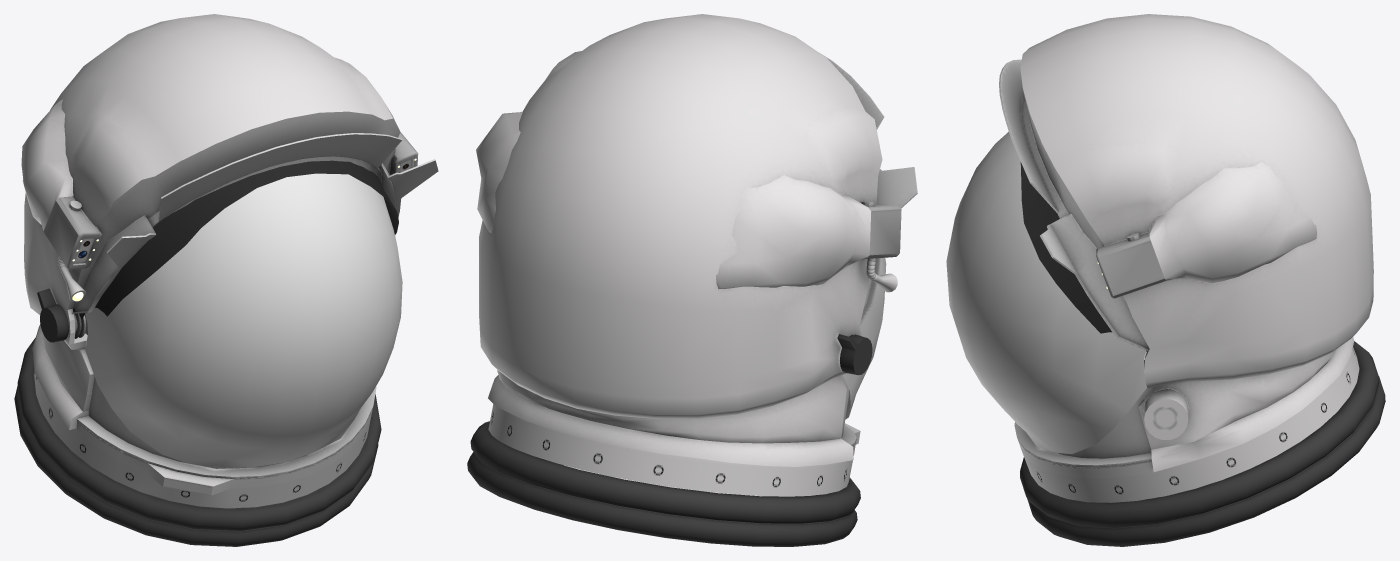
File: casco de astronauta.fbx
3 renders of one model, left to right at view 1: azimuth 30°, elevation 25°; view 2: azimuth 150°, elevation 25°; view 3: azimuth 270°, elevation 25°, orthographic. The views are drawn at different scales.
Visible parts, largest first — view 1: Helmet-Body_helmet_glass_0; view 2: Helmet-Body_helmet_glass_0; view 3: Helmet-Body_helmet_glass_0.
Part boxes in pixels (box(x1,y1,x2,y2)): Helmet-Body_helmet_glass_0: box(14, 14, 438, 546); Helmet-Body_helmet_glass_0: box(467, 14, 917, 546); Helmet-Body_helmet_glass_0: box(946, 14, 1385, 546).
Size of the model in its own units: 34.14 by 43.21 by 36.32.
3 materials, 1 textured.
